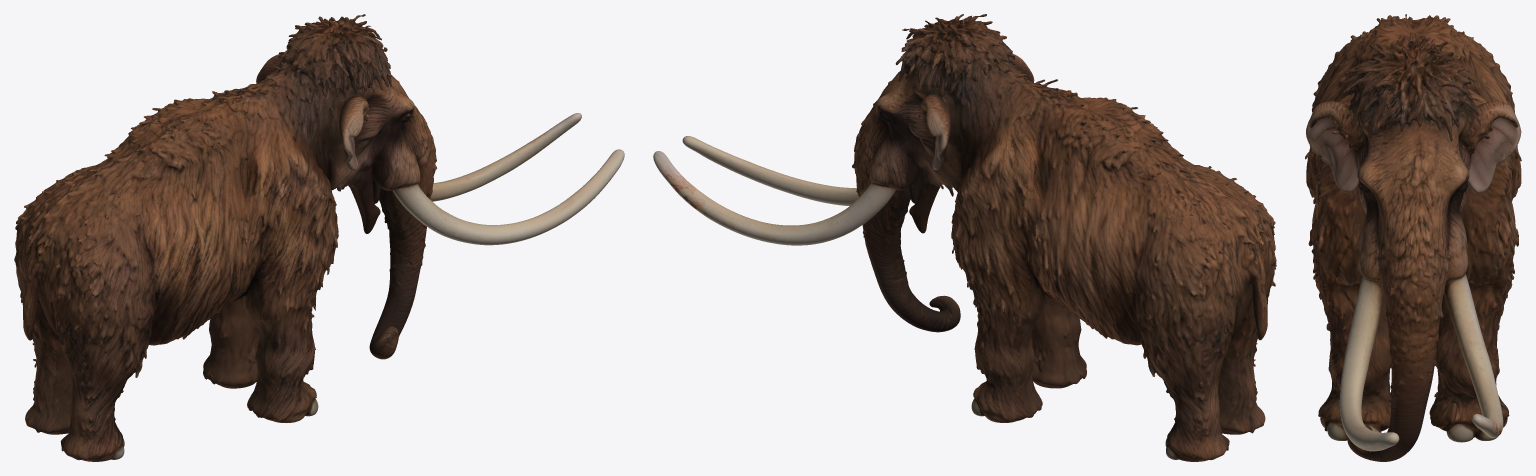
Rendered from tripo.glb.
3 renders of one model, left to right at view 1: azimuth 30°, elevation 25°; view 2: azimuth 150°, elevation 25°; view 3: azimuth 270°, elevation 25°, orthographic. The views are drawn at different scales.
Parts seen in each view (by area): view 1: tripo_node_05a6314c-10e2-4d20-b671-62843f2304eb; view 2: tripo_node_05a6314c-10e2-4d20-b671-62843f2304eb; view 3: tripo_node_05a6314c-10e2-4d20-b671-62843f2304eb.
Boxes of the visible parts, x1,y1,x2,y2 form: tripo_node_05a6314c-10e2-4d20-b671-62843f2304eb: (14,14,624,461); tripo_node_05a6314c-10e2-4d20-b671-62843f2304eb: (653,14,1276,461); tripo_node_05a6314c-10e2-4d20-b671-62843f2304eb: (1305,14,1521,461).
Bounding box in the file's own units: 1 × 0.5767 × 0.266.
Materials: 1 (1 with a texture image).
